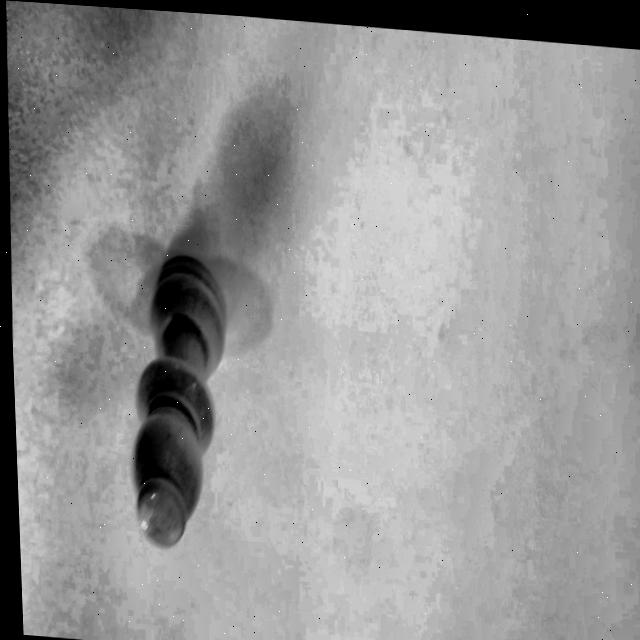white-bishop: (78, 194, 276, 640)
